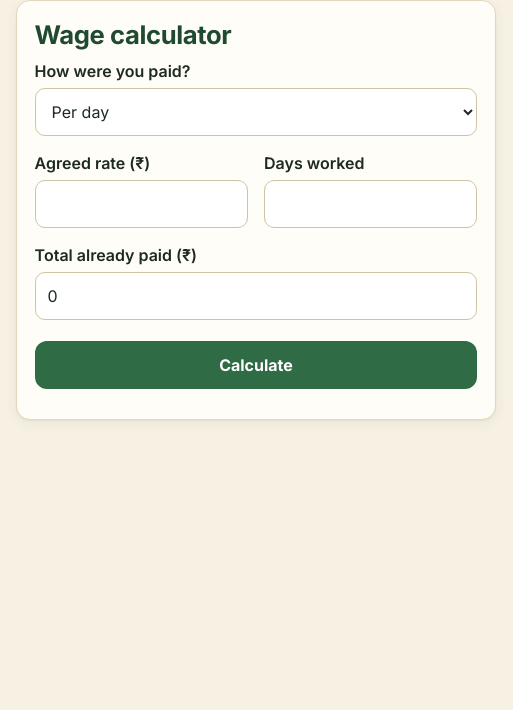
Test: wage calculator › shows the server-calculated result and the estimate disclaimer
Type "800" into the field labelled "Agreed rate (₹)".
click(141, 204); type("800")  # box [35,180,248,228]
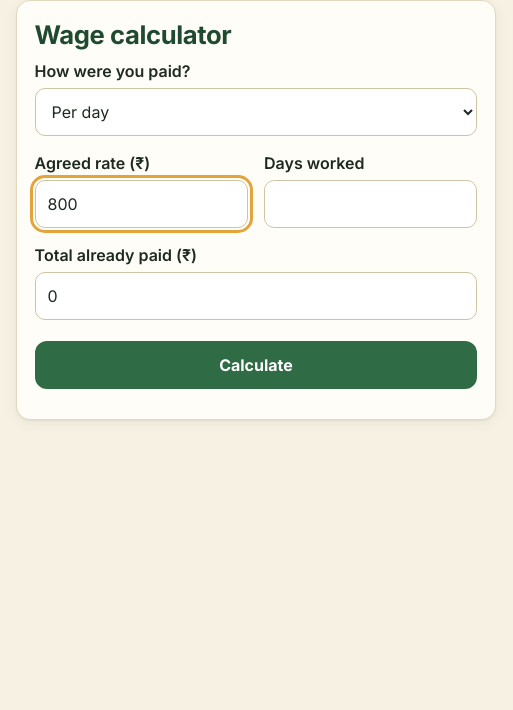
Type "18" into the field labelled "Days worked".
click(371, 204); type("18")  # box [264,180,477,228]
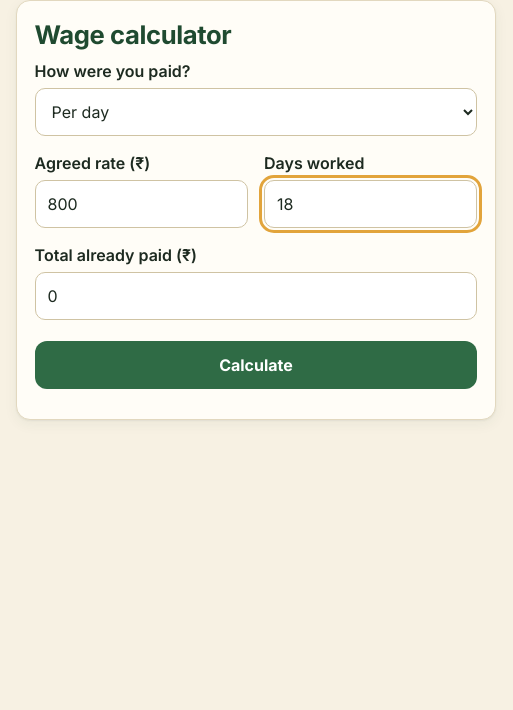
Replace the text in the field labelled "Total already paid (₹)" with "8000" at point(256, 296), box [35,272,477,320]
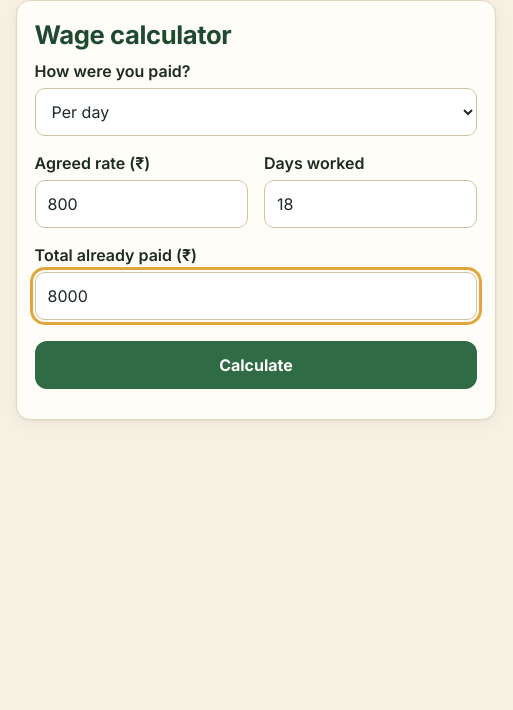
Click the button "Calculate".
click(256, 365)  # box [35,341,477,389]
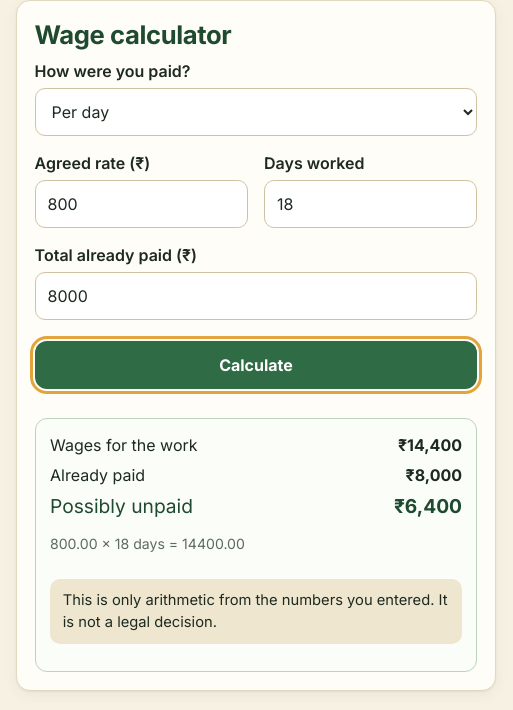
Check: the text "₹6,400" is shown, box [394,492,462,522]
Check: the text "not a legal decision" is shown, box [63,591,448,631]
